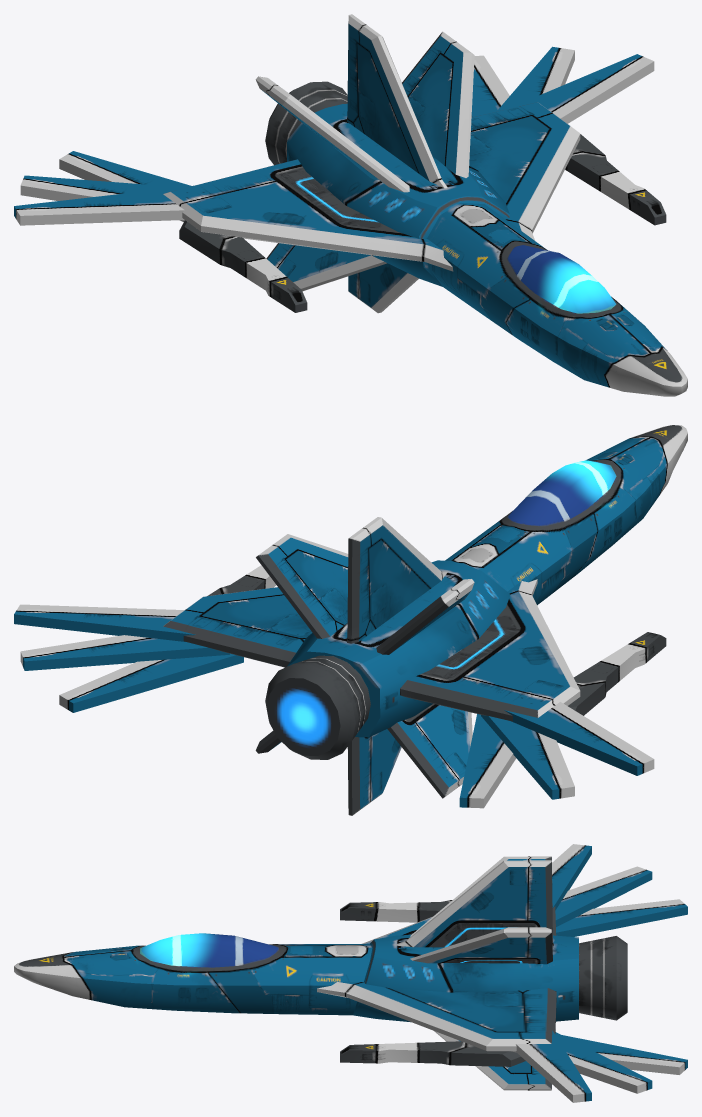
The model's file is BlueBird.fbx.
3 views of the same model, one above another, from view 1: azimuth 30°, elevation 25°; view 2: azimuth 150°, elevation 25°; view 3: azimuth 270°, elevation 25° (orthographic). The views are drawn at different scales.
Visible parts, largest first — view 1: StarSparrow09; view 2: StarSparrow09; view 3: StarSparrow09.
Boxes of the visible parts, left/top/right/bottom form: StarSparrow09: left=14, top=14, right=687, bottom=396; StarSparrow09: left=14, top=425, right=687, bottom=815; StarSparrow09: left=14, top=844, right=687, bottom=1102.
Size of the model in its own units: 1023 by 427 by 1160.
1 material, 1 textured.
